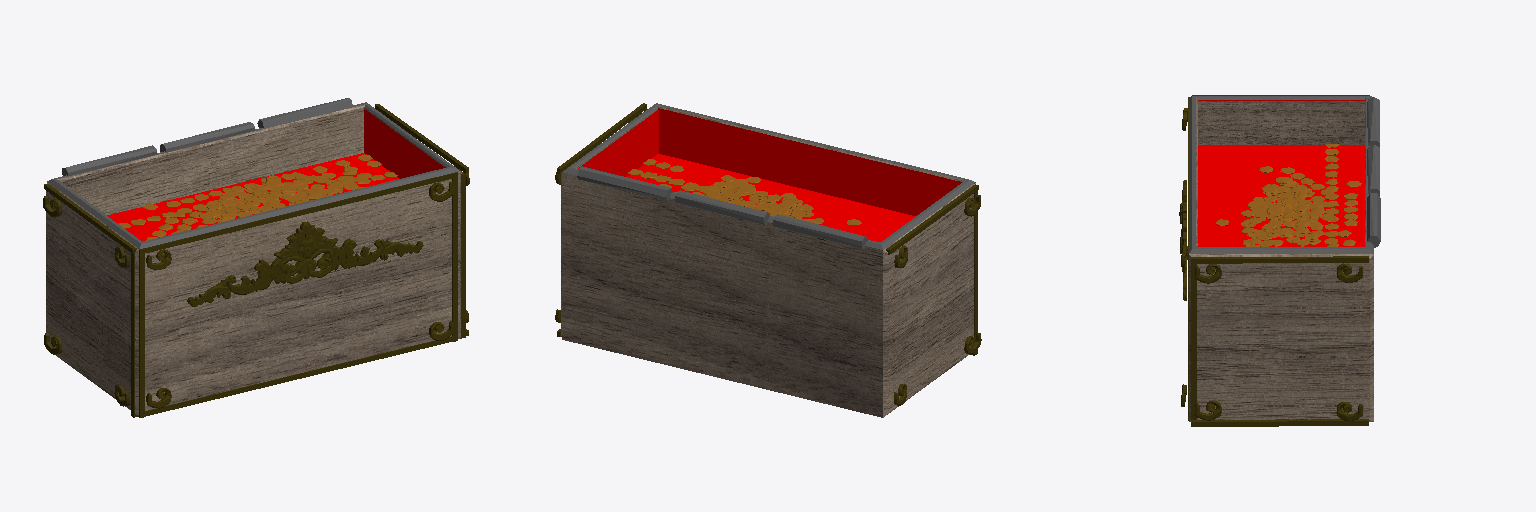
3 views of the same model, side by side, from view 1: azimuth 30°, elevation 25°; view 2: azimuth 150°, elevation 25°; view 3: azimuth 270°, elevation 25° (orthographic).
Bounding box in the file's own units: 2.15 × 1.06 × 1.09.
6 materials, 1 textured.